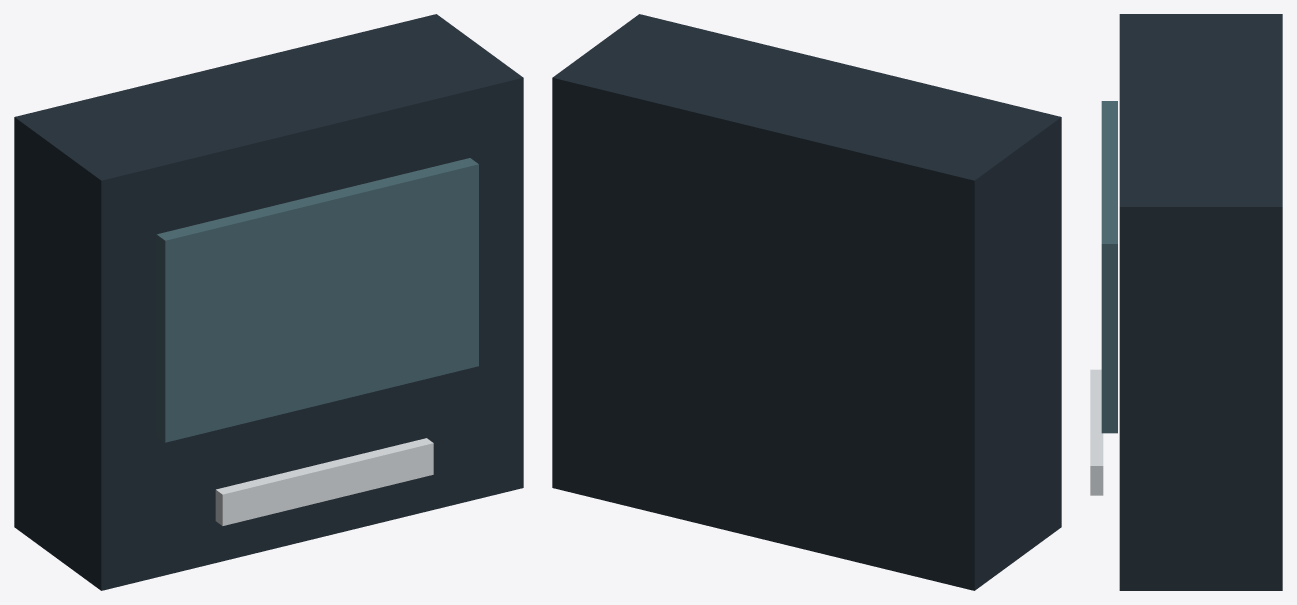
3 renders of one model, left to right at view 1: azimuth 30°, elevation 25°; view 2: azimuth 150°, elevation 25°; view 3: azimuth 270°, elevation 25°, orthographic. The views are drawn at different scales.
Visible parts, largest first — view 1: 多功能电力仪表; view 2: 多功能电力仪表; view 3: 多功能电力仪表.
Boxes of the visible parts, x1=… form: 多功能电力仪表: x1=14, y1=14, x2=523, y2=590; 多功能电力仪表: x1=552, y1=14, x2=1061, y2=590; 多功能电力仪表: x1=1090, y1=14, x2=1282, y2=590.
Bounding box in the file's own units: 0.7 × 0.65 × 0.295.
